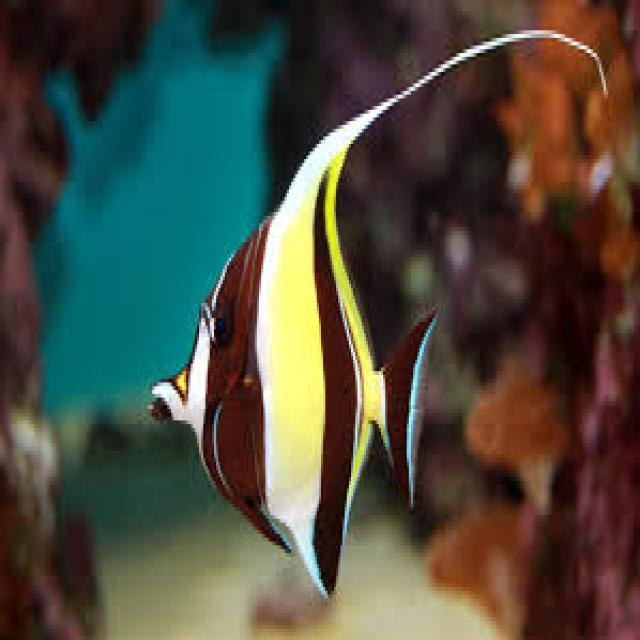MorishIdol: (143, 23, 610, 602)
